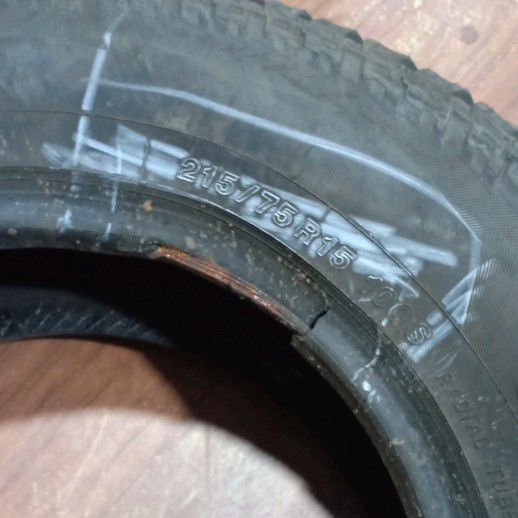bead_damage: (91, 229, 340, 350)
